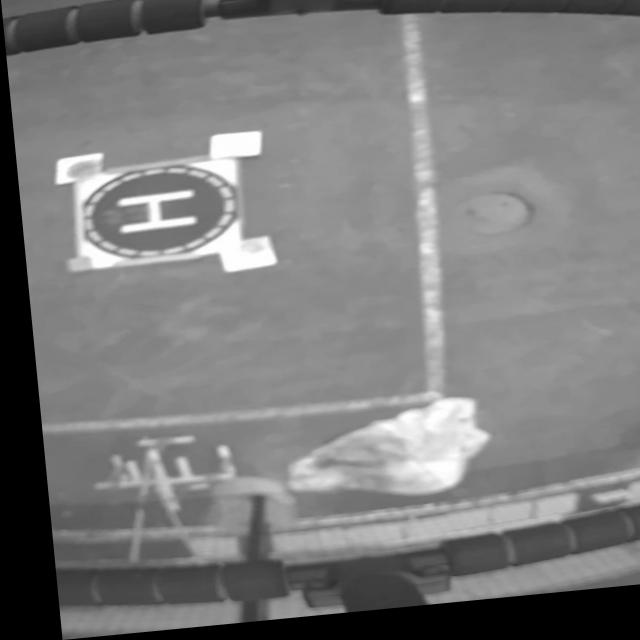Helipad: (111, 193, 190, 236)
